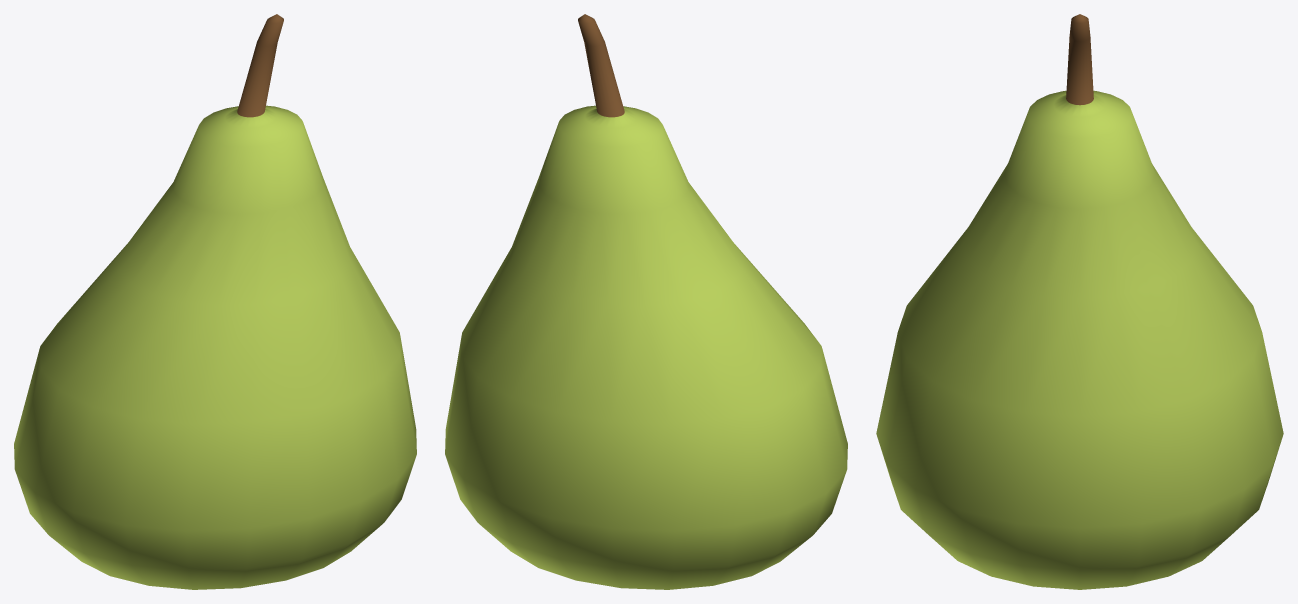
File: NEW_RECOVERY_013_LOD2.fbx
The picture shows the model from 3 angles, left to right: view 1: azimuth 30°, elevation 25°; view 2: azimuth 150°, elevation 25°; view 3: azimuth 270°, elevation 25°; orthographic projection. The views are drawn at different scales.
Visible parts, largest first — view 1: Whole pear with continuous stem; view 2: Whole pear with continuous stem; view 3: Whole pear with continuous stem.
Part boxes in pixels (x1=…): Whole pear with continuous stem: x1=14, y1=14, x2=416, y2=589; Whole pear with continuous stem: x1=445, y1=14, x2=847, y2=589; Whole pear with continuous stem: x1=876, y1=14, x2=1283, y2=589.
Size of the model in its own units: 132 by 120 by 185.
